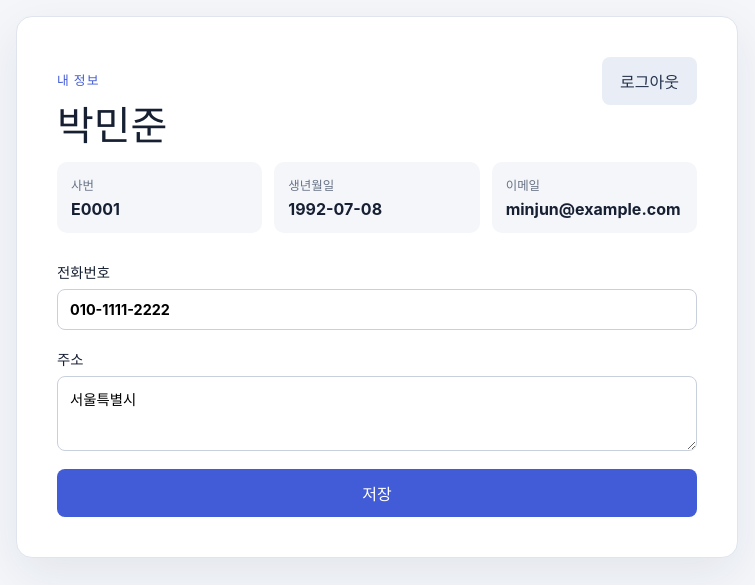
it: 저장 시 세션이 만료되면 로그인 화면으로 이동한다
Expected: the field labelled "전화번호" is shown, [57,289,697,330]
Step 1. Click the button "저장" → (377, 493), box [57,469,697,517]
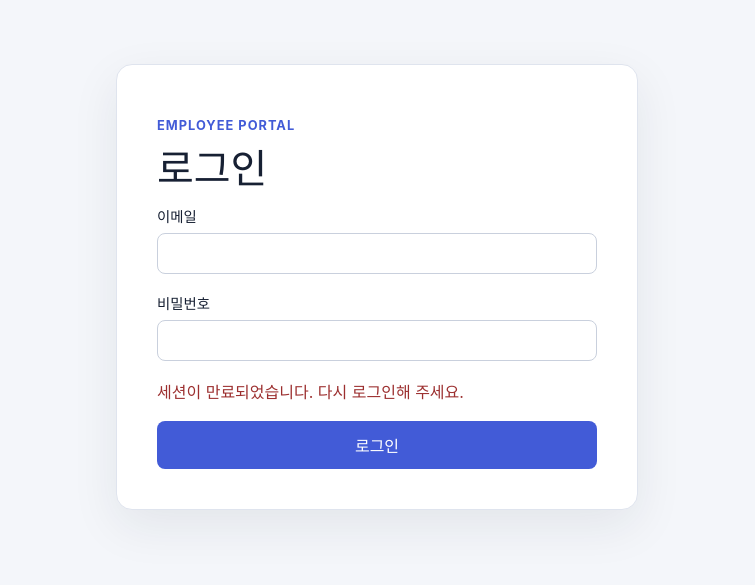
Now the heading "로그인" is shown, box [157,144,267,193]
Now the text "세션이 만료되었습니다. 다시 로그인해 주세요." is shown, box [157,382,464,402]
